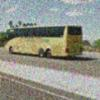buses: (4, 22, 85, 60)
